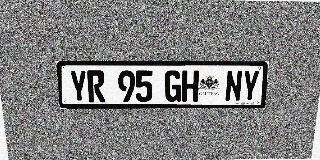5: (136, 70, 153, 102)
9: (118, 70, 135, 102)
G: (165, 70, 182, 102)
H: (182, 70, 199, 102)
N: (225, 70, 243, 102)
R: (87, 70, 105, 102)
Y: (69, 70, 88, 102), (241, 70, 260, 102)
